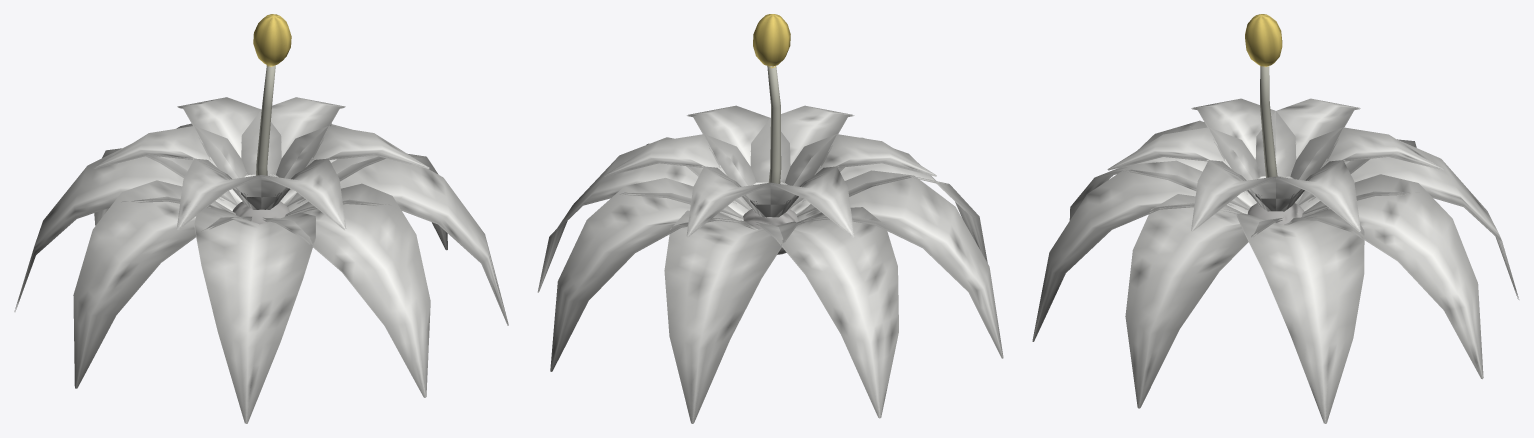
File: LeavedSmallA.fbx
3 views of the same model, side by side, from view 1: azimuth 30°, elevation 25°; view 2: azimuth 150°, elevation 25°; view 3: azimuth 270°, elevation 25° (orthographic).
Visible parts, largest first — view 1: LeavedSmallA; view 2: LeavedSmallA; view 3: LeavedSmallA.
Boxes of the visible parts, box(x1,y1,x2,y2) form: LeavedSmallA: box(14, 14, 508, 423); LeavedSmallA: box(537, 14, 1003, 423); LeavedSmallA: box(1032, 14, 1519, 423).
Bounding box in the file's own units: 0.9995 × 0.6987 × 1.
Materials: 2 (2 with a texture image).
